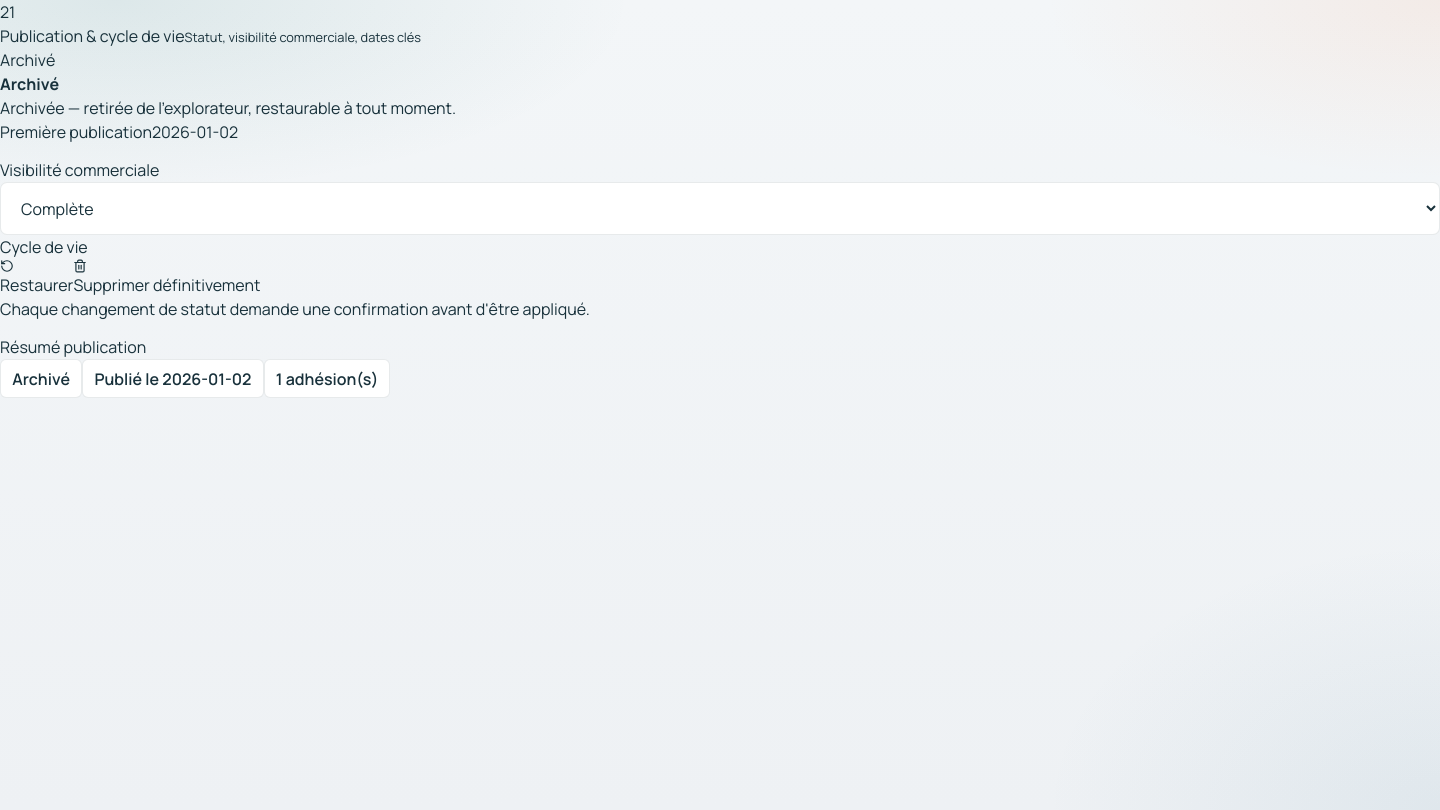
Test: SectionPublication (§21) › opens the type-the-name confirmation modal when hard-delete is clicked
Expected: the text "Supprimer définitivement la fiche" is not shown
Click the button "Supprimer définitivement" at {"x": 167, "y": 278}, box x1=73 y1=259 x2=260 y2=297
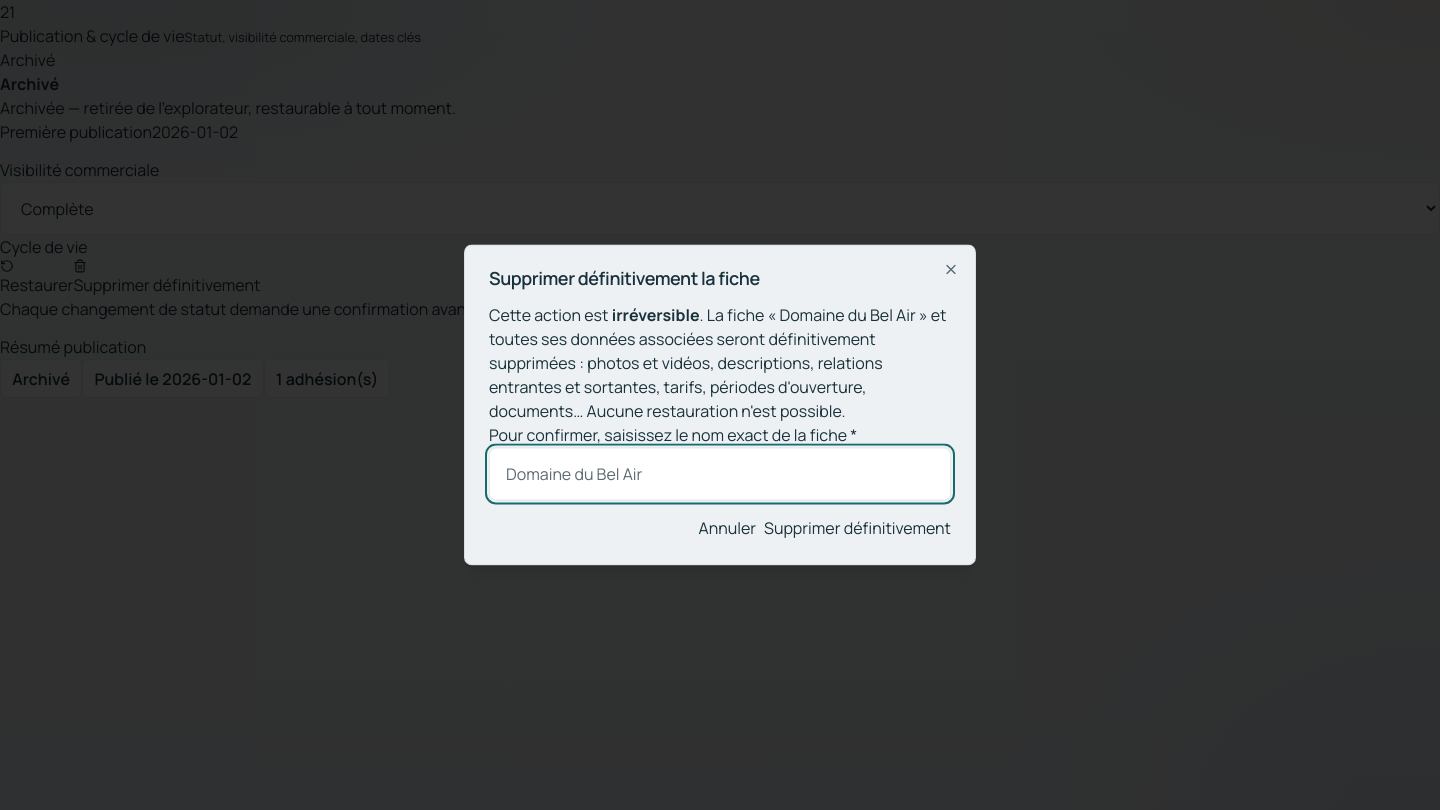
Expected: the heading "Supprimer définitivement la fiche" is shown, x1=489 y1=266 x2=760 y2=290
